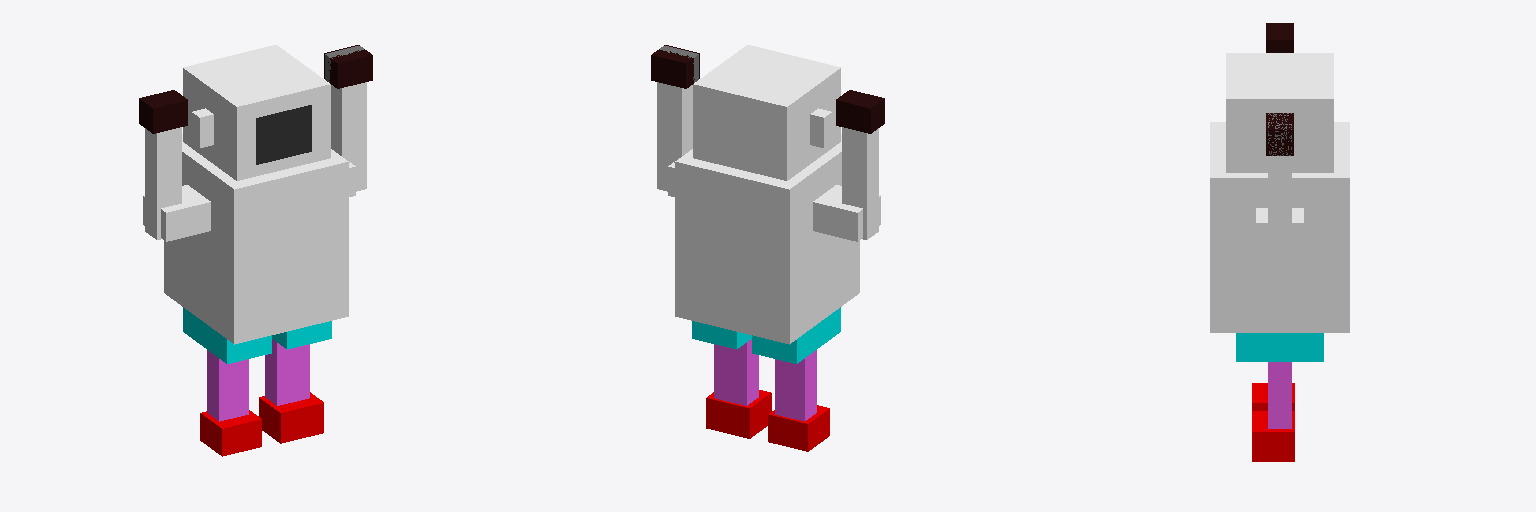
The model's file is SpaceGoalKeeper.obj.
3 renders of one model, left to right at view 1: azimuth 30°, elevation 25°; view 2: azimuth 150°, elevation 25°; view 3: azimuth 270°, elevation 25°, orthographic.
Visible parts, largest first — view 1: pCube1 group3, group3 pCube2, group3 pCube5, group3 pCube12, group3 pCube16, group3 pCube14, group3 pCube17, group3 pCube15, group3 pCube6, group3 pCube18, group3 pCube9, group3 pCube10 (+2 smaller); view 2: pCube1 group3, group3 pCube2, group3 pCube5, group3 pCube12, group3 pCube16, group3 pCube14, group3 pCube17, group3 pCube6, group3 pCube18, group3 pCube15, group3 pCube9, group3 pCube10 (+2 smaller); view 3: pCube1 group3, group3 pCube2, group3 pCube19, group3 pCube12, group3 pCube17, group3 pCube16, group3 pCube8, group3 pCube10, group3 pCube9, group3 pCube15.
Boxes of the visible parts, <box> form: pCube1 group3: <box>164,134,348,344</box>; group3 pCube2: <box>183,45,330,180</box>; group3 pCube5: <box>145,127,181,239</box>; group3 pCube12: <box>331,82,366,191</box>; group3 pCube16: <box>265,339,309,405</box>; group3 pCube14: <box>207,350,248,421</box>; group3 pCube17: <box>259,392,323,443</box>; group3 pCube15: <box>200,410,261,456</box>; group3 pCube6: <box>143,185,210,241</box>; group3 pCube18: <box>183,307,271,363</box>; group3 pCube9: <box>139,90,187,133</box>; group3 pCube10: <box>324,45,372,88</box>; pCube1 group3: <box>675,134,859,344</box>; group3 pCube2: <box>693,45,840,180</box>; group3 pCube5: <box>842,127,878,239</box>; group3 pCube12: <box>657,82,692,191</box>; group3 pCube16: <box>714,339,758,405</box>; group3 pCube14: <box>775,350,816,421</box>; group3 pCube17: <box>706,390,771,438</box>; group3 pCube6: <box>813,185,880,241</box>; group3 pCube18: <box>752,307,840,363</box>; group3 pCube15: <box>768,405,829,451</box>; group3 pCube9: <box>836,90,884,133</box>; group3 pCube10: <box>651,45,699,88</box>; pCube1 group3: <box>1210,122,1349,332</box>; group3 pCube2: <box>1226,53,1333,172</box>; group3 pCube19: <box>1236,333,1323,361</box>; group3 pCube12: <box>1268,156,1291,261</box>; group3 pCube17: <box>1252,411,1294,461</box>; group3 pCube16: <box>1268,362,1291,428</box>; group3 pCube8: <box>1256,208,1303,251</box>; group3 pCube10: <box>1266,113,1293,155</box>; group3 pCube9: <box>1266,23,1293,52</box>; group3 pCube15: <box>1252,383,1294,410</box>.
Bounding box in the file's own units: 2.34 × 3.66 × 1.29.